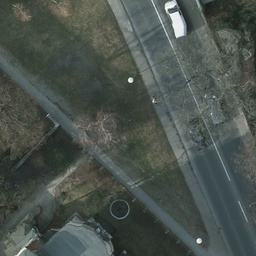car: (205, 90, 228, 125), (163, 1, 186, 36), (184, 116, 204, 150)
